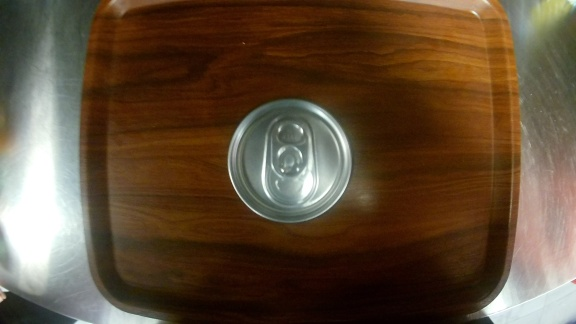kutukola: (223, 95, 359, 228)
